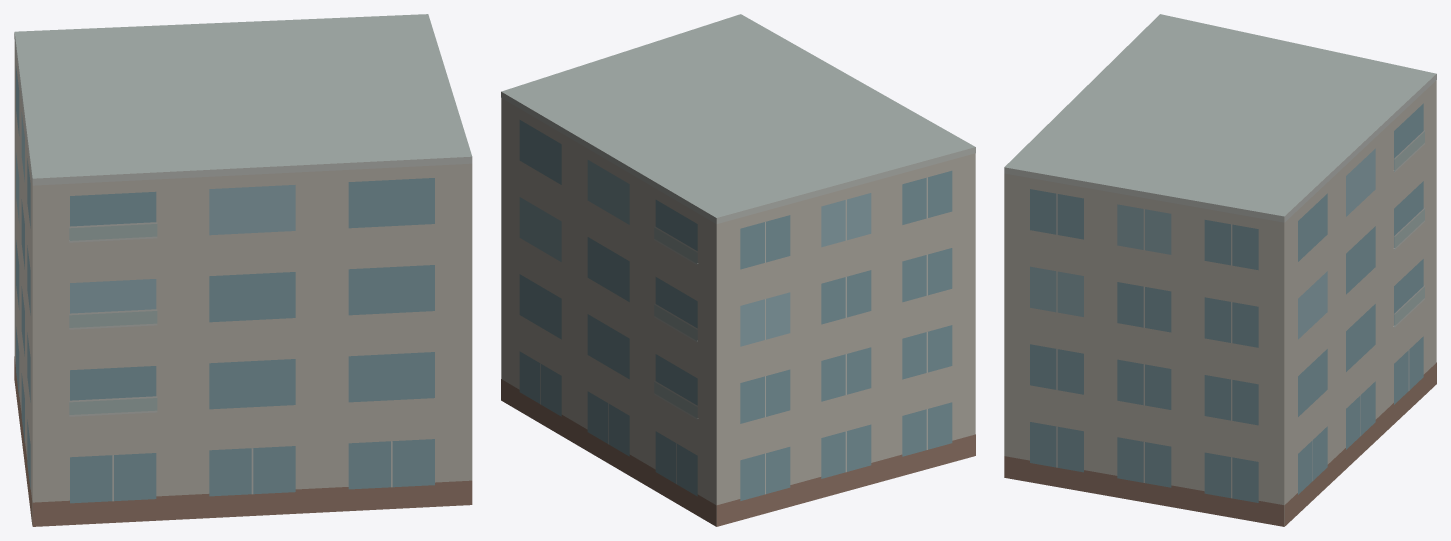
The model's file is survey-upis-32945651.glb.
3 renders of one model, left to right at view 1: azimuth 30°, elevation 25°; view 2: azimuth 150°, elevation 25°; view 3: azimuth 270°, elevation 25°, orthographic. The views are drawn at different scales.
Parts seen in each view (by area): view 1: survey-upis-32945651.tmp; view 2: survey-upis-32945651.tmp; view 3: survey-upis-32945651.tmp.
Part boxes in pixels (x1,y1,x2,y2): survey-upis-32945651.tmp: (14, 14, 472, 526); survey-upis-32945651.tmp: (501, 14, 975, 526); survey-upis-32945651.tmp: (1004, 14, 1436, 526).
Bounding box in the file's own units: 17.08 × 12.2 × 15.42.
